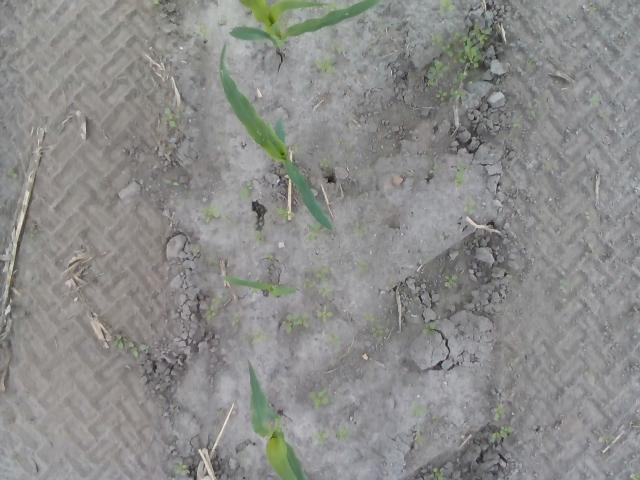Maize: (220, 44, 336, 232), (246, 361, 314, 480), (230, 0, 382, 53), (225, 274, 298, 300)
Weeds: (428, 20, 490, 104), (304, 269, 331, 296), (111, 335, 142, 358), (361, 310, 385, 336), (282, 312, 310, 334), (307, 390, 332, 409), (486, 426, 512, 444), (206, 294, 223, 319), (310, 55, 335, 72), (336, 423, 354, 442), (303, 222, 322, 240), (408, 400, 427, 418), (315, 305, 333, 323), (200, 204, 218, 222), (238, 180, 252, 201), (446, 273, 462, 290), (197, 16, 209, 38), (174, 462, 190, 478), (490, 402, 504, 420), (164, 107, 176, 128), (274, 206, 294, 218), (312, 432, 329, 446), (438, 0, 456, 13), (559, 278, 576, 291), (454, 166, 464, 188), (511, 110, 522, 128), (432, 466, 446, 480), (354, 224, 368, 238), (421, 322, 435, 335), (330, 336, 342, 351), (231, 312, 241, 330), (414, 433, 426, 447), (28, 224, 40, 238), (254, 230, 264, 246), (336, 46, 352, 56), (465, 202, 477, 214), (589, 94, 602, 105), (318, 160, 329, 170), (629, 472, 640, 480), (192, 248, 200, 257), (150, 1, 160, 6)
